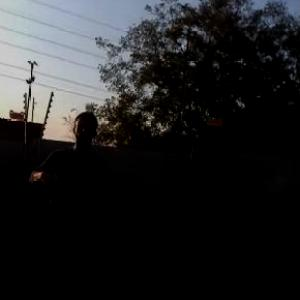follow: (25, 104, 114, 299)
